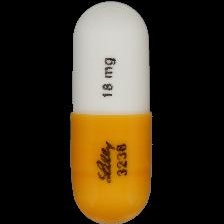68151-4485: (0, 0, 224, 224)
